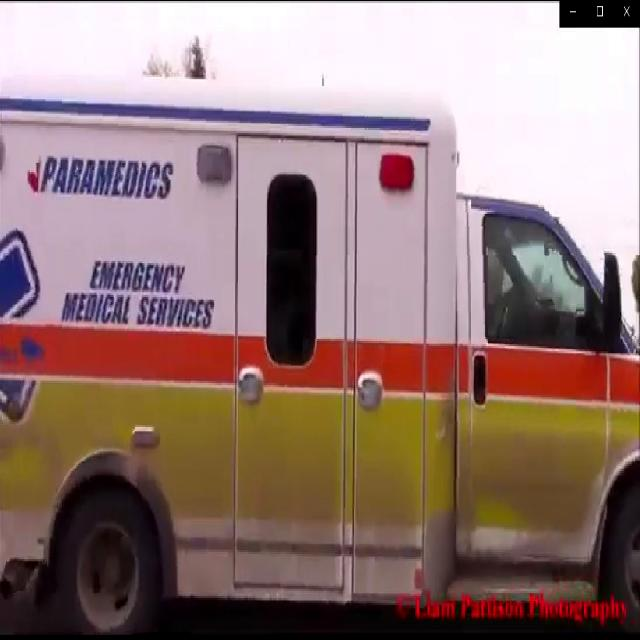emergency: (1, 77, 640, 640)
